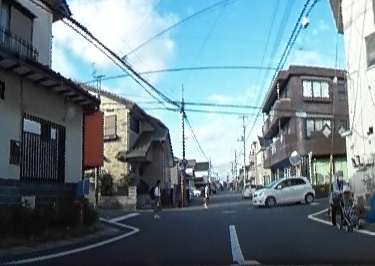person: (330, 171, 346, 230), (149, 178, 164, 218)
